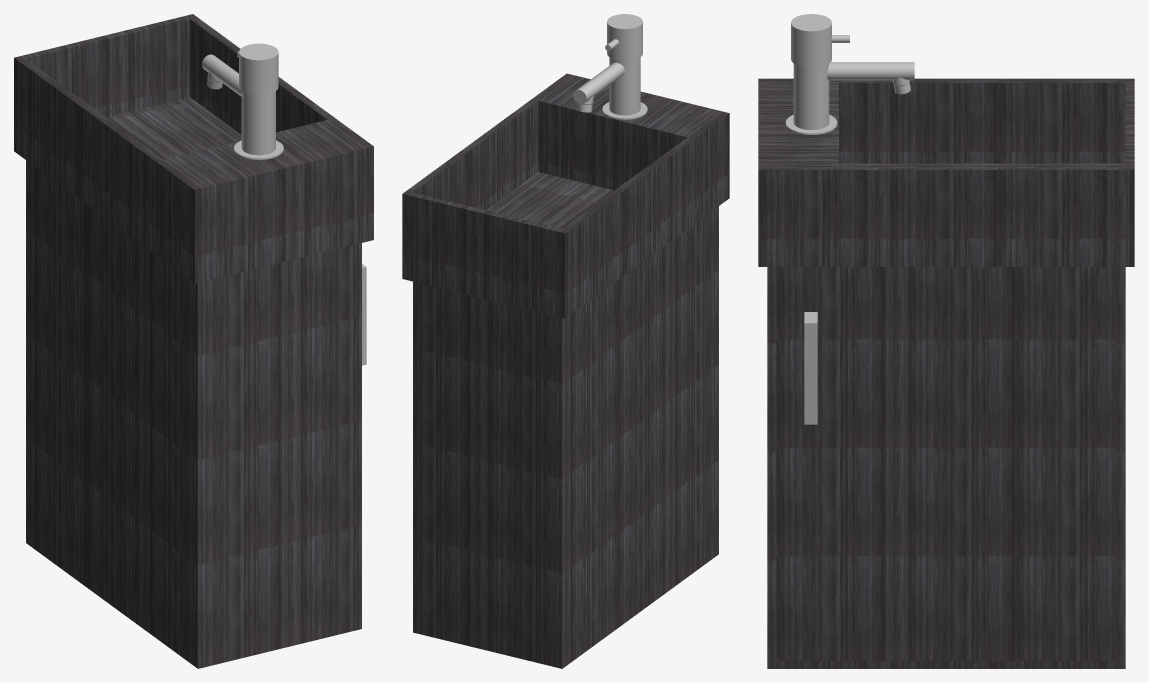
The model's file is lavabo.fbx.
3 renders of one model, left to right at view 1: azimuth 30°, elevation 25°; view 2: azimuth 150°, elevation 25°; view 3: azimuth 270°, elevation 25°, orthographic. The views are drawn at different scales.
Visible parts, largest first — view 1: Bathroom_Vanity__No_Door_1; view 2: Bathroom_Vanity__No_Door_1; view 3: Vanity_Door1, Bathroom_Vanity__No_Door_1.
Boxes of the visible parts, <box> form: Bathroom_Vanity__No_Door_1: <box>14,14,373,668</box>; Bathroom_Vanity__No_Door_1: <box>402,14,729,668</box>; Vanity_Door1: <box>776,267,1116,660</box>; Bathroom_Vanity__No_Door_1: <box>758,14,1134,668</box>.
Bounding box in the file's own units: 260 × 745 × 420.
